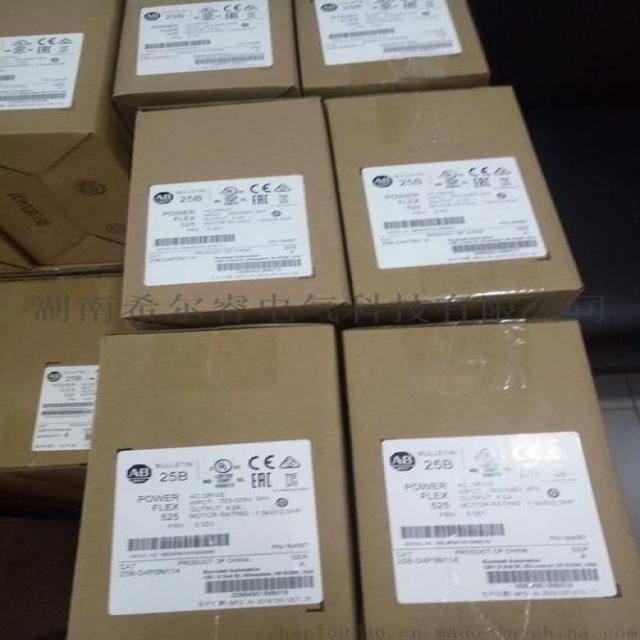box: (338, 321, 640, 638), (67, 324, 362, 640), (325, 85, 584, 327), (120, 96, 356, 326), (0, 0, 138, 269), (0, 260, 134, 488), (111, 0, 300, 111), (293, 0, 485, 97)
